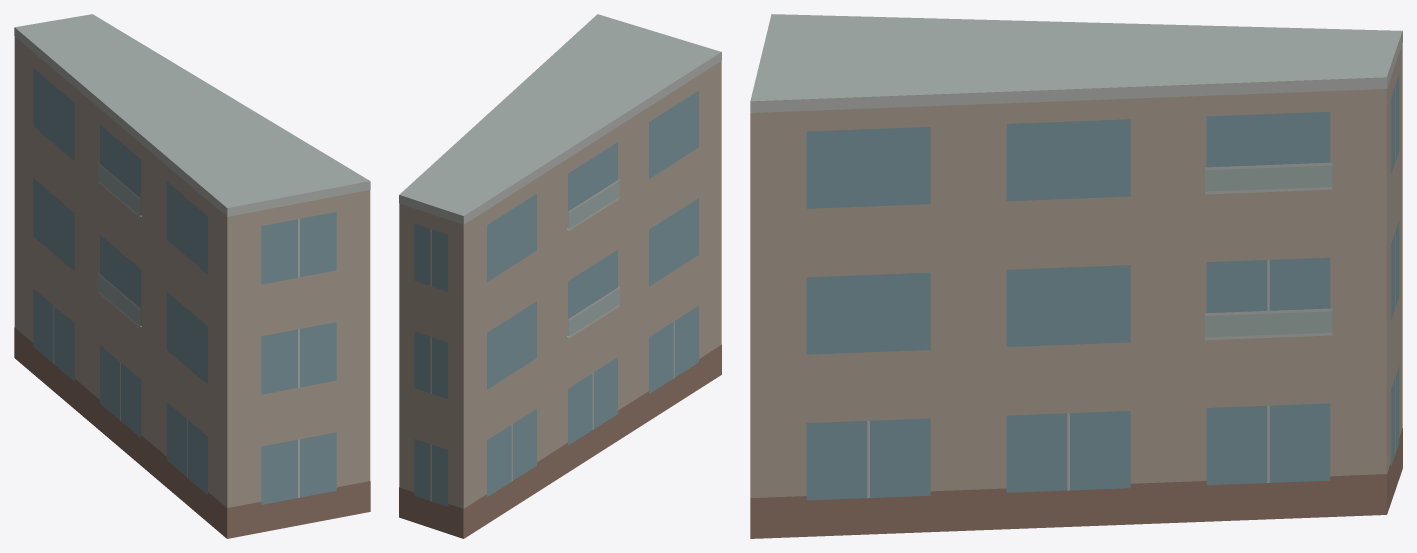
Rendered from survey-upis-32591386.glb.
3 views of the same model, side by side, from view 1: azimuth 30°, elevation 25°; view 2: azimuth 150°, elevation 25°; view 3: azimuth 270°, elevation 25° (orthographic). The views are drawn at different scales.
Visible parts, largest first — view 1: survey-upis-32591386.tmp; view 2: survey-upis-32591386.tmp; view 3: survey-upis-32591386.tmp.
Part boxes in pixels (x1,y1,x2,y2): survey-upis-32591386.tmp: (14, 14, 370, 538); survey-upis-32591386.tmp: (399, 14, 721, 538); survey-upis-32591386.tmp: (750, 14, 1402, 538).
Bounding box in the file's own units: 3.93 × 9.15 × 12.38.
